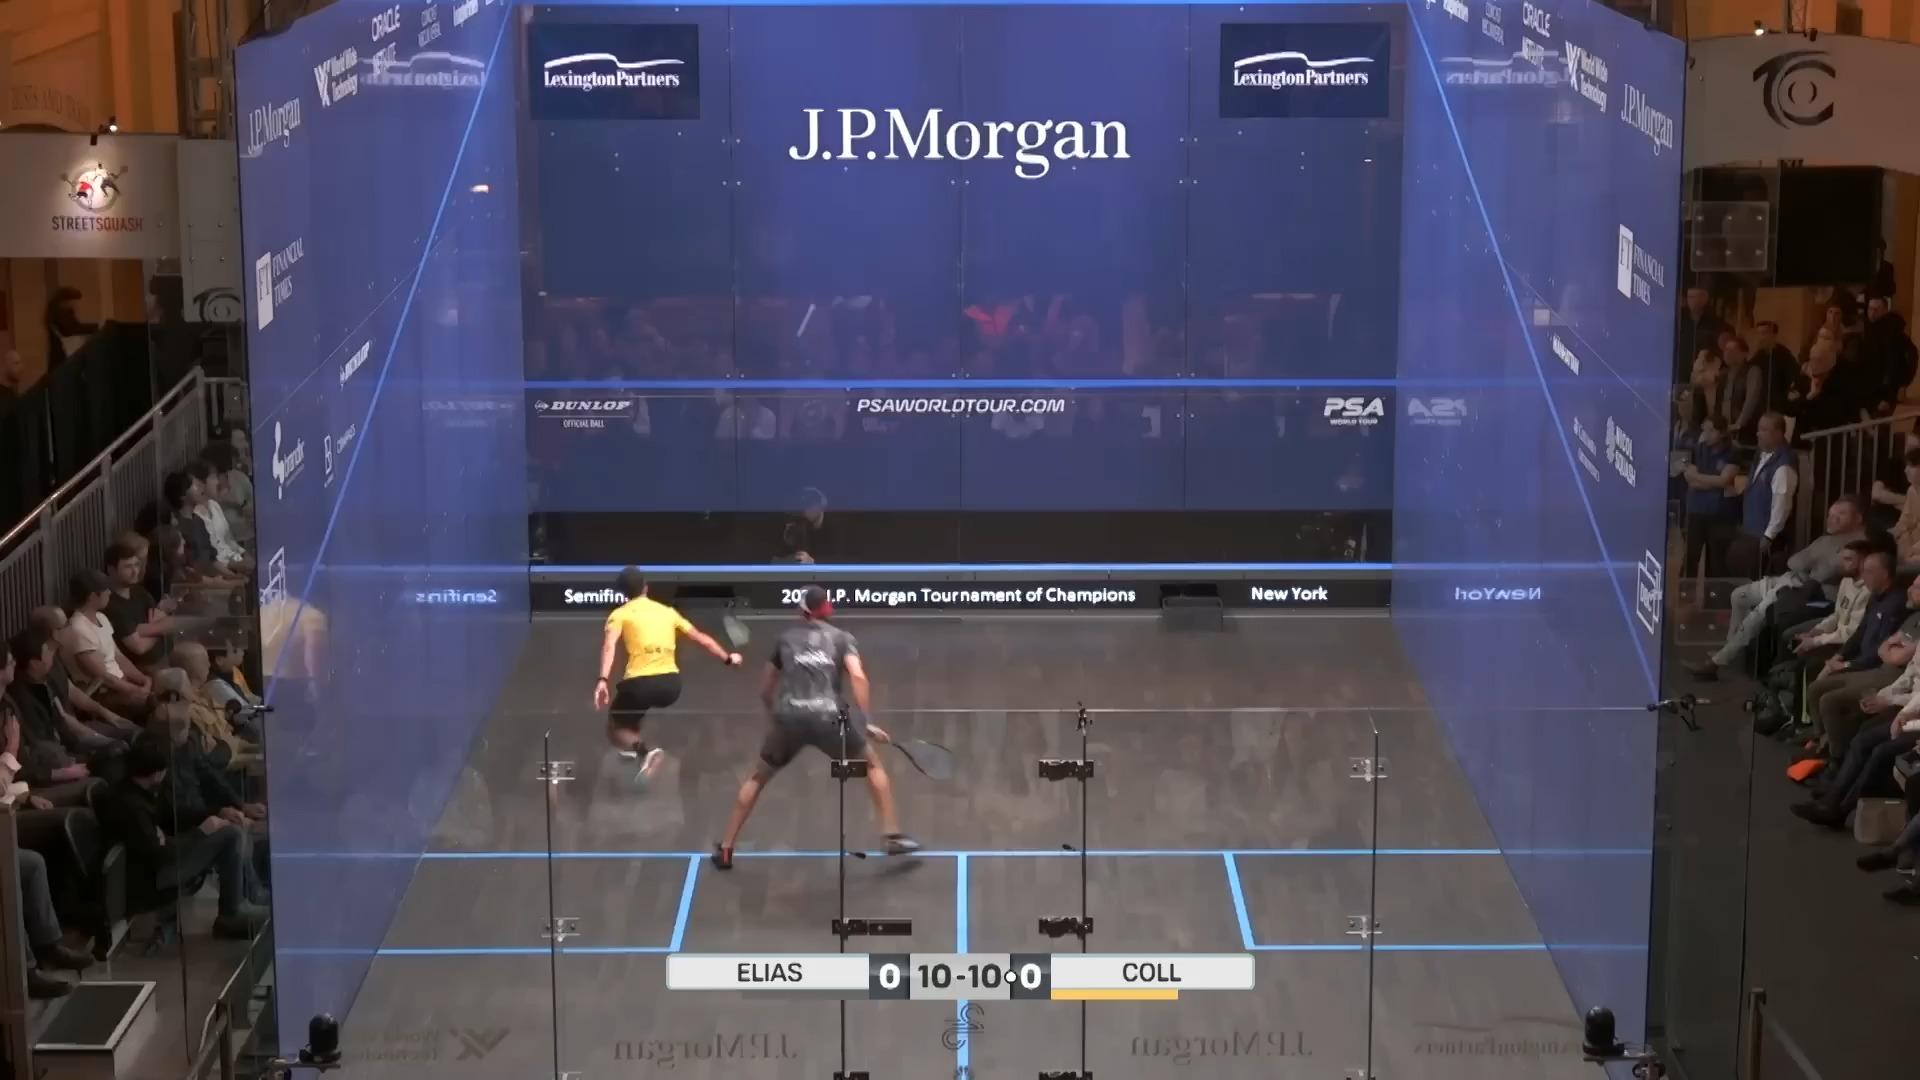Racket: (874, 719, 972, 796), (719, 604, 765, 671)
